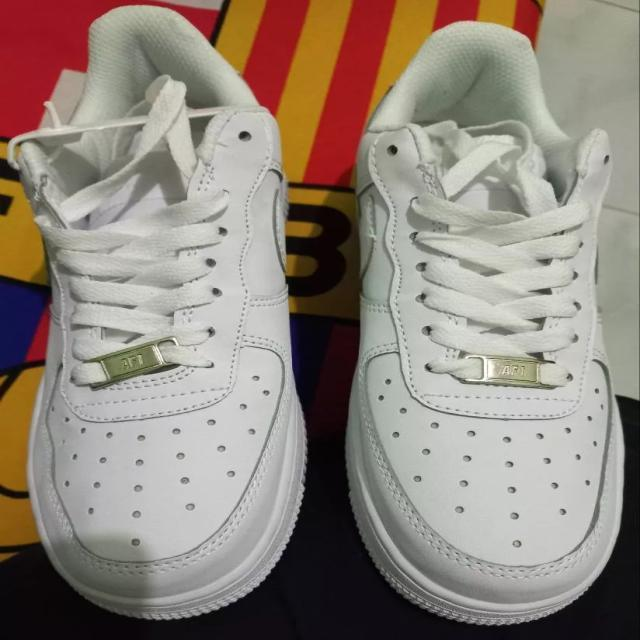nike fake air force: (2, 2, 310, 620), (336, 21, 630, 628)
